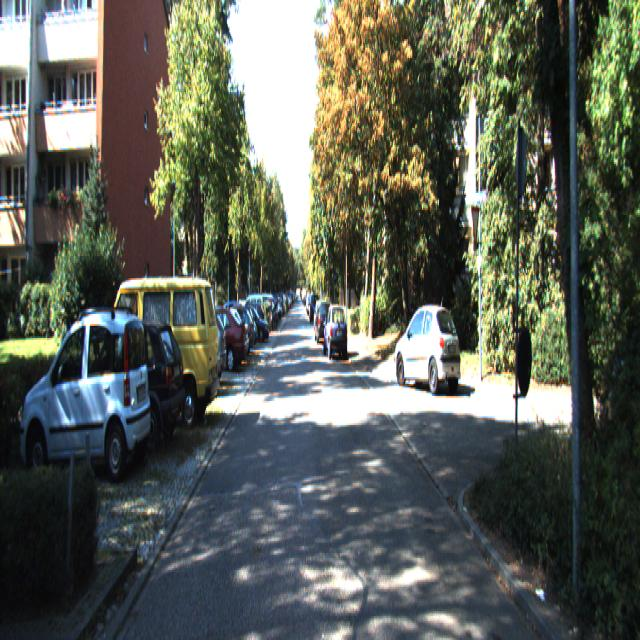Car: (20, 306, 152, 487), (71, 316, 186, 456), (394, 302, 464, 397), (190, 303, 248, 369), (323, 304, 348, 360), (314, 300, 333, 344)
DontCare: (238, 286, 297, 333), (298, 286, 318, 320)
Van: (105, 272, 220, 432)
